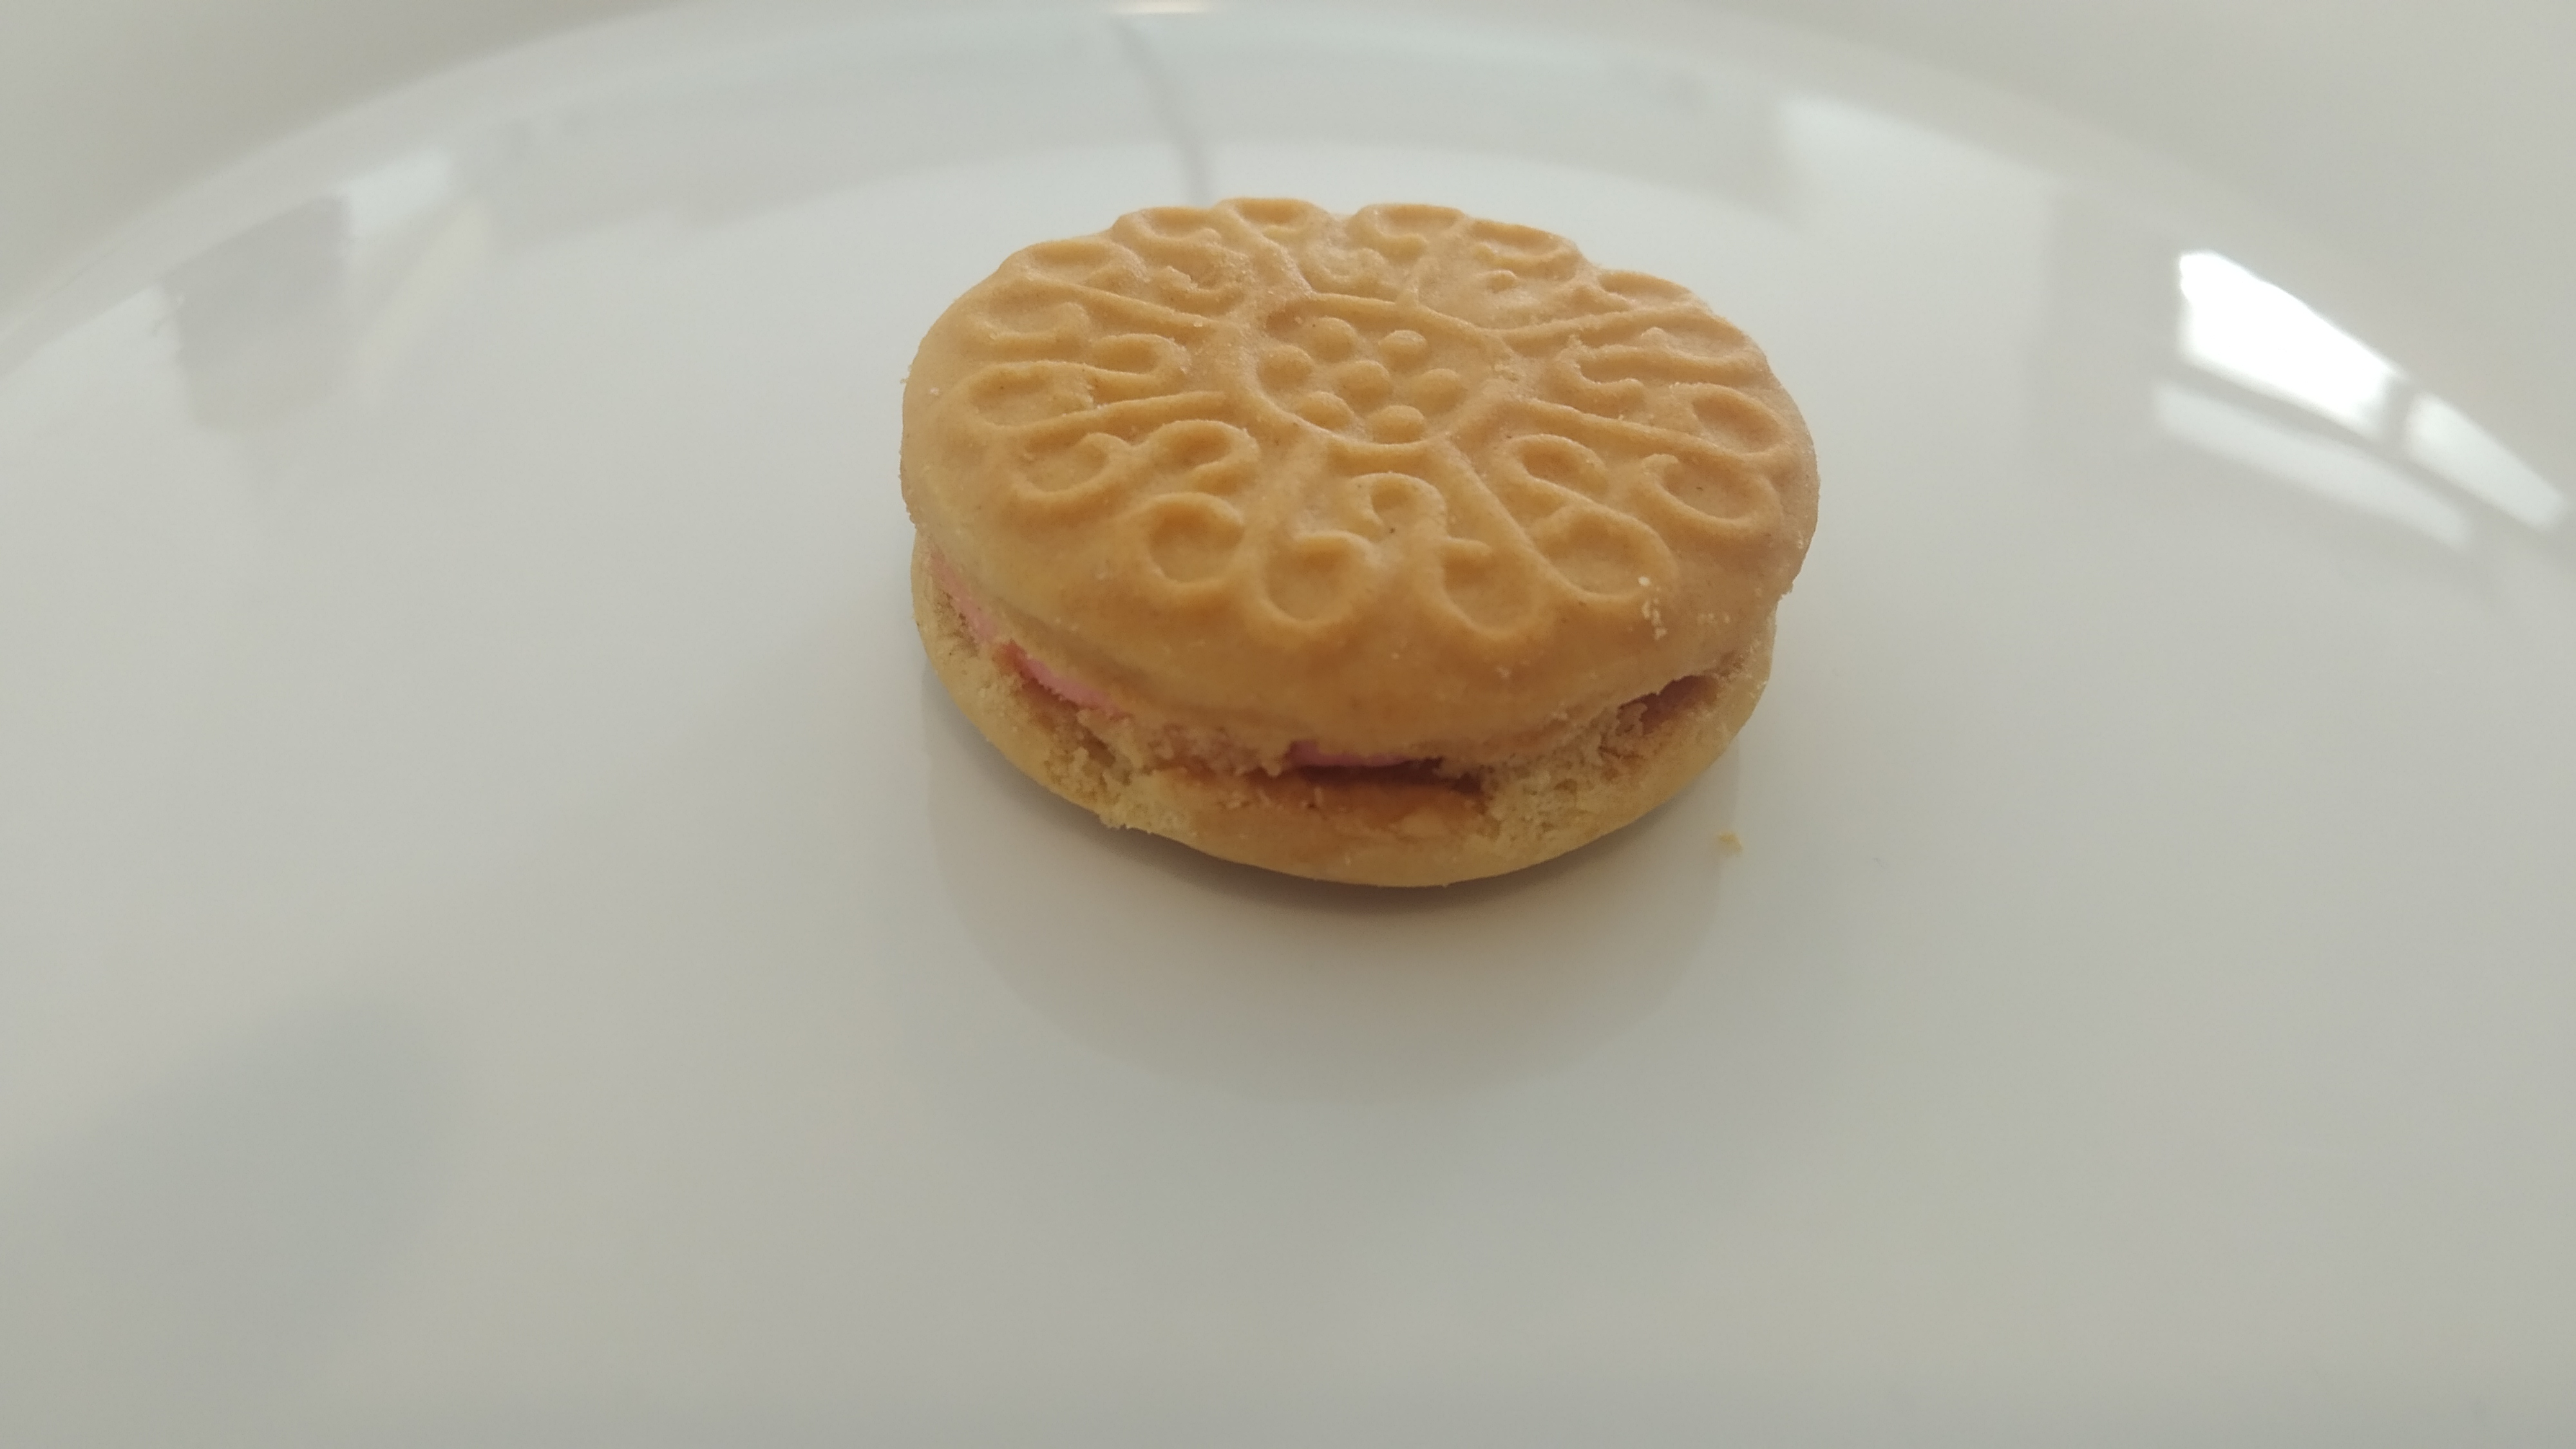lulu: (902, 195, 1822, 886)
